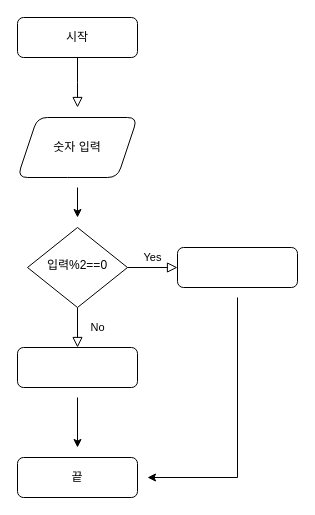
The diagram is 315 pixels wide and 515 high, and some of its shapes have lost their labels. Here are the shapes that lost their labels. From the top down, the centre of each, then its label:
the point at 237,267: "짝수"
the point at 77,367: "홀수"
